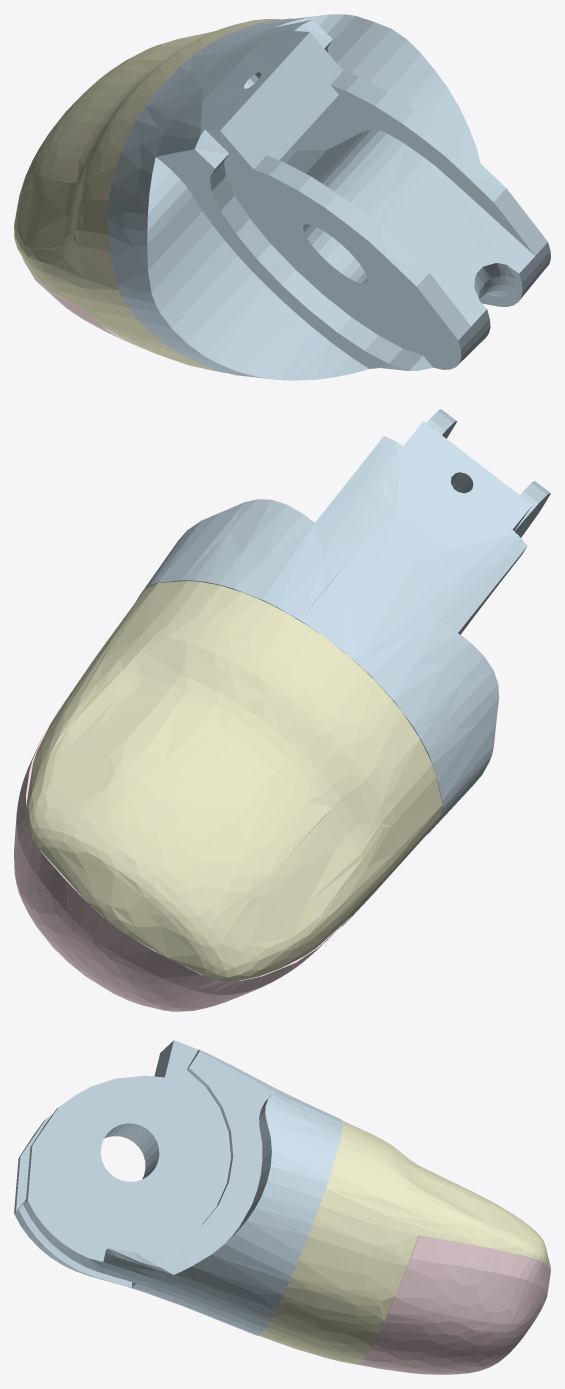
File: i02_rightHand_ringFingerTip_visual.obj.light.glb
The picture shows the model from 3 angles, top to bottom: view 1: azimuth 30°, elevation 25°; view 2: azimuth 150°, elevation 25°; view 3: azimuth 270°, elevation 25°; orthographic projection. The views are drawn at different scales.
Size of the model in its own units: 0.1602 by 0.2072 by 0.326.
